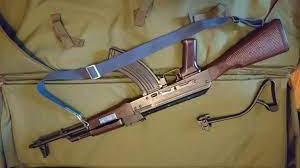larga: (28, 18, 290, 158)
